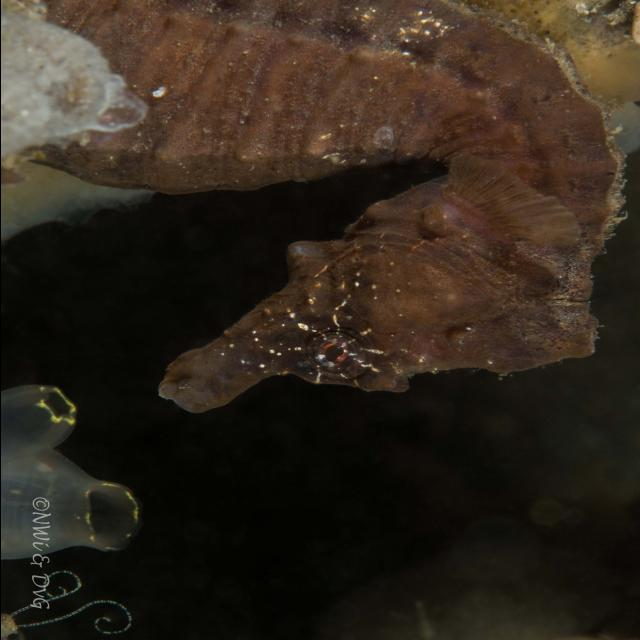Hippo: (138, 194, 612, 418)
